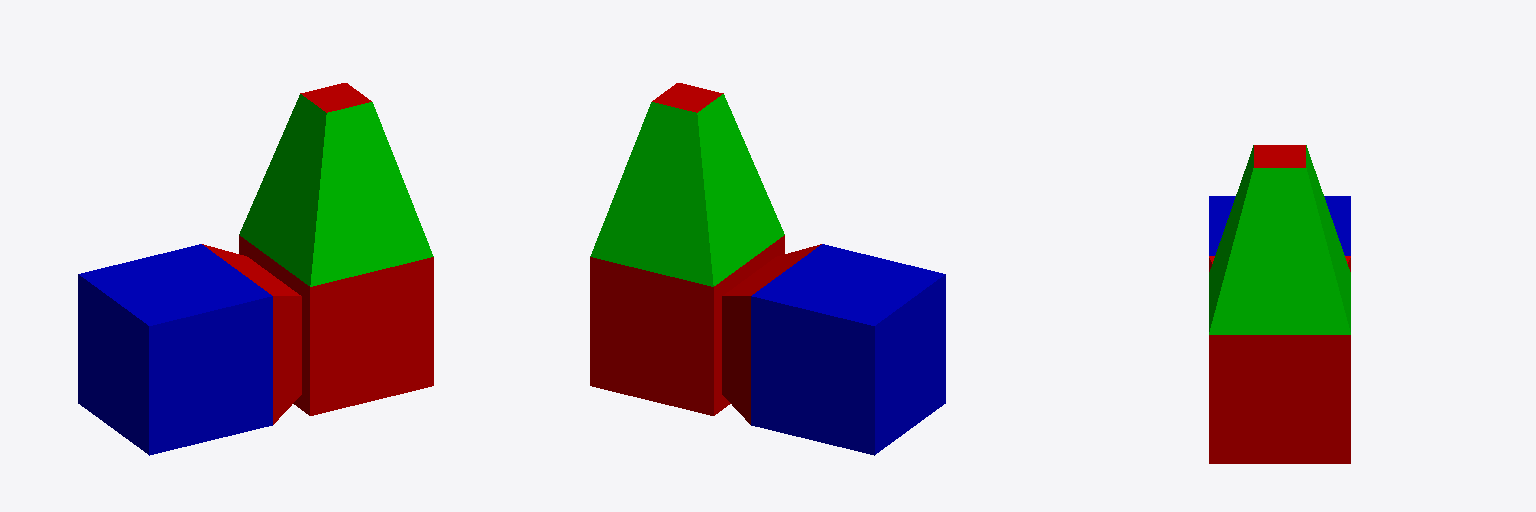
Rendered from thingy.obj.
3 renders of one model, left to right at view 1: azimuth 30°, elevation 25°; view 2: azimuth 150°, elevation 25°; view 3: azimuth 270°, elevation 25°, orthographic.
Visible parts, largest first — view 1: Cube, Cube.001; view 2: Cube, Cube.001; view 3: Cube, Cube.001.
Boxes of the visible parts, x1,y1,x2,y2 form: Cube: [239, 83, 433, 415]; Cube.001: [78, 244, 301, 455]; Cube: [590, 83, 784, 415]; Cube.001: [722, 244, 945, 455]; Cube: [1209, 145, 1350, 463]; Cube.001: [1209, 196, 1350, 271].
Bounding box in the file's own units: 4.6 × 4.29 × 2.